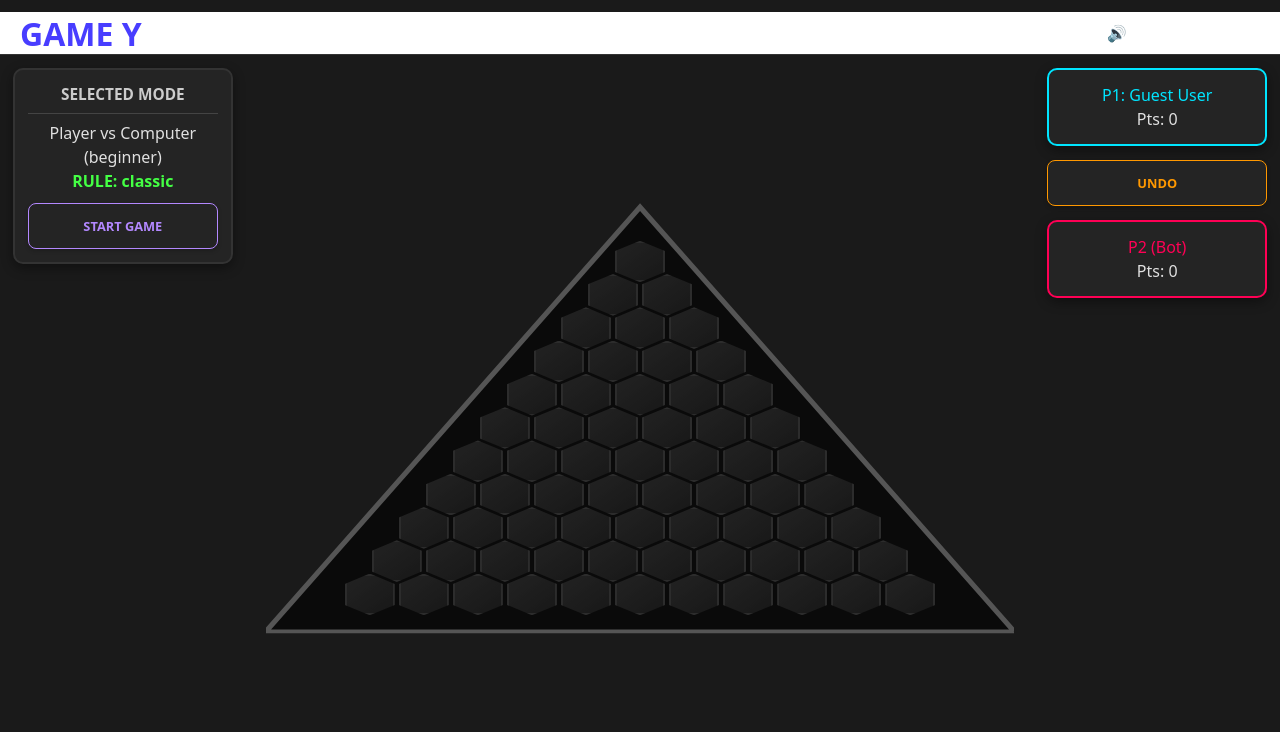
Test: GameBoard - Fortuney rule › should not show flip button when rule is classic
Click the button "START GAME": x=123, y=226 [28,203,218,249]
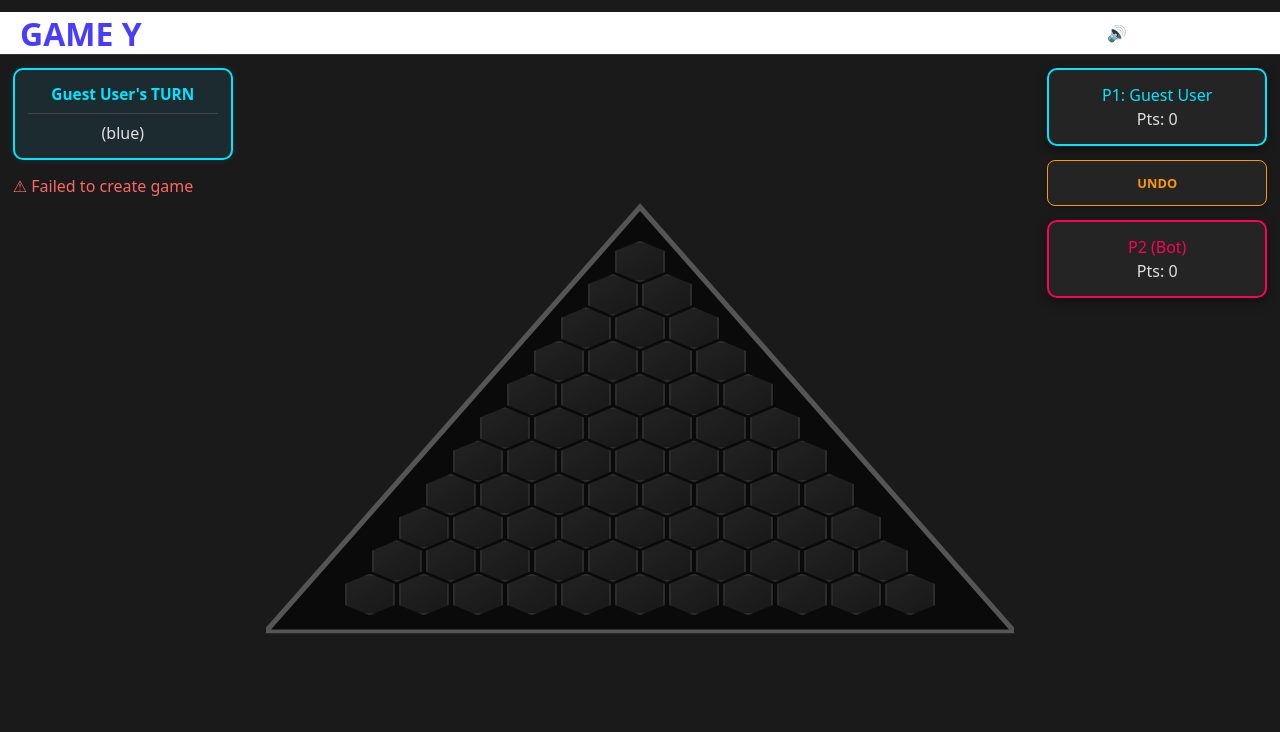
Expected: the text "Guest User's TURN" is shown, [28,83,218,114]
